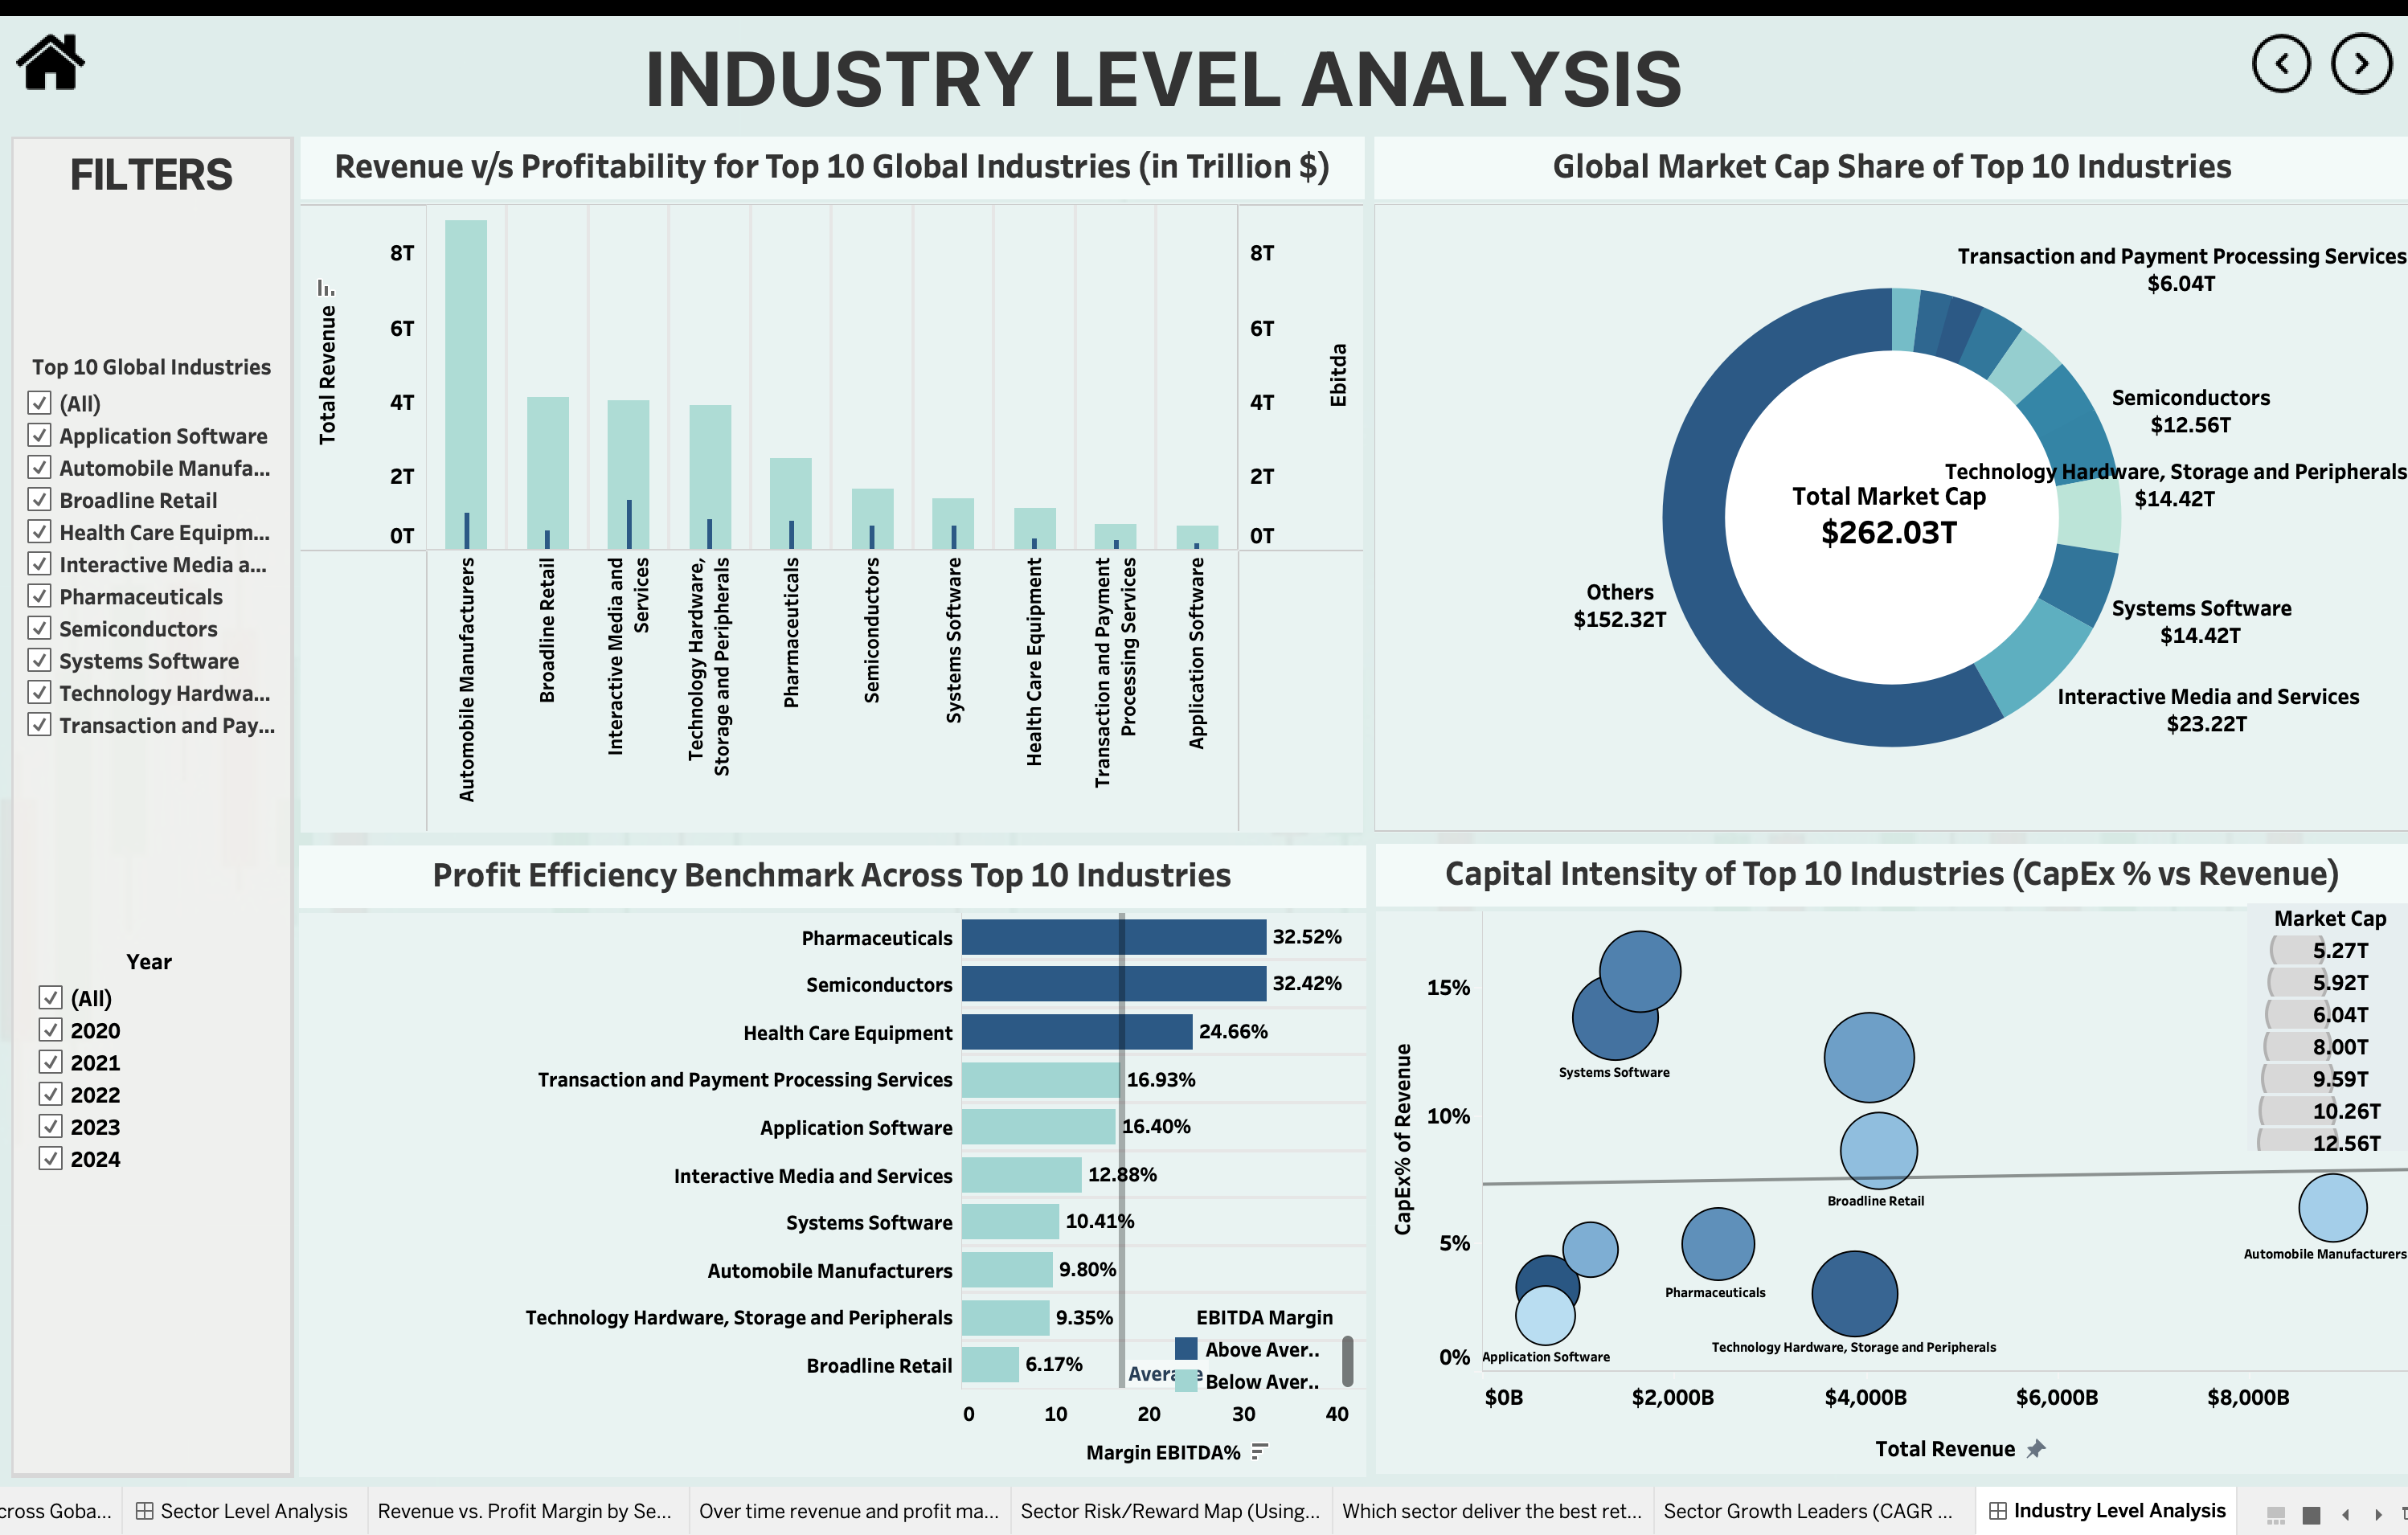

The dashboard page shown, as its layout file describes it:
{"tool":"tableau","page":{"name":"Industry Level Analysis","canvas":[1000,1000],"units":"permille","ordinal":3},"visuals":[{"type":"worksheet","title":"Industry Info","mark":"Automatic","box":[39.1,6.8,881,72.4]},{"type":"dashboard-object","box":[3.9,7.5,33.4,46.8]},{"type":"dashboard-object","box":[925.4,7.5,27.3,48.3]},{"type":"dashboard-object","box":[955.4,9.1,32.9,46.8]},{"type":"worksheet","title":"box (2)","mark":"Automatic","box":[4.5,81.5,116.4,914]},{"type":"worksheet","title":"Revenue v/s Profitability for Top 10 Global Industries","mark":"Bar","rows":["Total Revenue","EBITDA"],"box":[123.5,81.5,438,473.6]},{"type":"worksheet","title":"Global Market Cap Share of Top 10 Industries","mark":"Pie","cols":["Calculation_412360849252761603","Calculation_412360849252794373"],"box":[565.6,82.2,426.8,472.9]},{"type":"worksheet","title":"FILTERS","mark":"Automatic","box":[7.6,87.5,110.5,40.7]},{"type":"filter","title":"Revenue v/s Profitability for Top 10 Global Industries","param":"[federated.0pgchlx1p5gws61gtvl2m0kqny3y].[Primary Industry Set]","box":[7.6,228,110.5,340.5]},{"type":"worksheet","title":"Capital Intensity of Top 10 Industries (CapEx % vs Revenue)","mark":"Circle","rows":["Calculation_412360849256005641"],"cols":["Total Revenue"],"box":[566.4,563.4,425.6,428.4]},{"type":"worksheet","title":"Profit Efficiency Benchmark Across Top 10 Industries","mark":"Automatic","cols":["Calculation_412360849254600711"],"box":[123.1,564.1,438.9,429.1]},{"type":"legend","title":"Capital Intensity of Top 10 Industries (CapEx % vs Revenue)","param":"[federated.0pgchlx1p5gws61gtvl2m0kqny3y].[usr:Calculation_743375429045719040:nk]","box":[924.7,603.3,69.1,168.2]},{"type":"filter","title":"Revenue v/s Profitability for Top 10 Global Industries","param":"[federated.0pgchlx1p5gws61gtvl2m0kqny3y].[yr:Year:ok]","box":[12,632.7,98.9,221.7]},{"type":"legend","title":"Profit Efficiency Benchmark Across Top 10 Industries","param":"[federated.0pgchlx1p5gws61gtvl2m0kqny3y].[usr:Calculation_412360849254748168:nk:","box":[481.7,875.6,78,61.1]}]}

Visuals, with their boxes on the dashboard's canvas, which has no fixed pixel size, in thousandths of its width and height (x1, y1, x2, y2). These are canvas units, not pixel positions in the 2408x1535 screenshot, which may show the page scaled, cropped or inside an application window:
"Industry Info" worksheet: (left=39, top=7, right=920, bottom=79)
dashboard-object: (left=4, top=8, right=37, bottom=54)
dashboard-object: (left=925, top=8, right=953, bottom=56)
dashboard-object: (left=955, top=9, right=988, bottom=56)
"box (2)" worksheet: (left=4, top=82, right=121, bottom=996)
"Revenue v/s Profitability for Top 10 Global Industries" worksheet (Bar marks): (left=124, top=82, right=562, bottom=555)
"Global Market Cap Share of Top 10 Industries" worksheet (Pie marks): (left=566, top=82, right=992, bottom=555)
"FILTERS" worksheet: (left=8, top=88, right=118, bottom=128)
"Revenue v/s Profitability for Top 10 Global Industries" filter: (left=8, top=228, right=118, bottom=568)
"Capital Intensity of Top 10 Industries (CapEx % vs Revenue)" worksheet (Circle marks): (left=566, top=563, right=992, bottom=992)
"Profit Efficiency Benchmark Across Top 10 Industries" worksheet: (left=123, top=564, right=562, bottom=993)
"Capital Intensity of Top 10 Industries (CapEx % vs Revenue)" legend: (left=925, top=603, right=994, bottom=772)
"Revenue v/s Profitability for Top 10 Global Industries" filter: (left=12, top=633, right=111, bottom=854)
"Profit Efficiency Benchmark Across Top 10 Industries" legend: (left=482, top=876, right=560, bottom=937)
